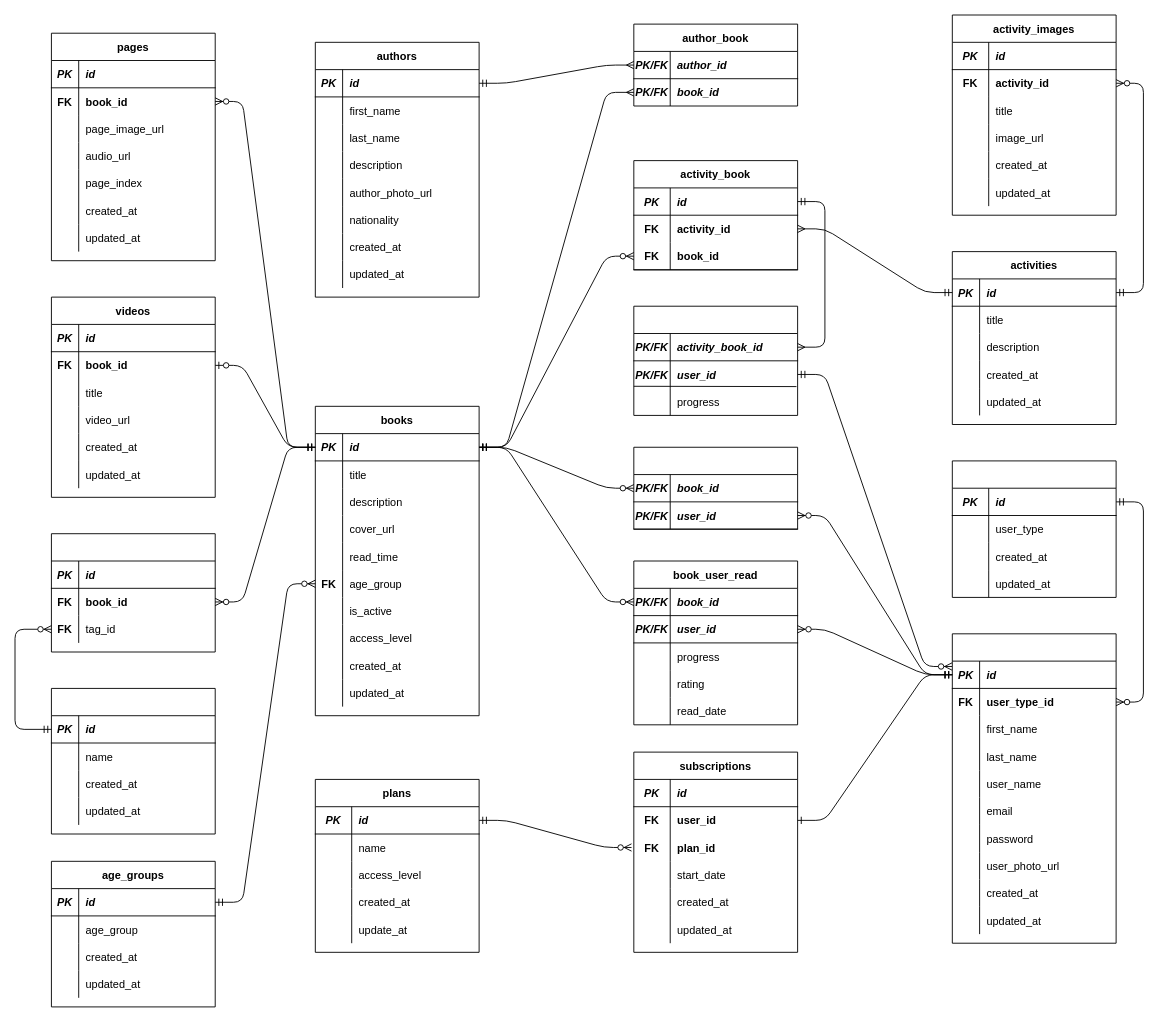
Some shapes in this 1158 by 1022 pixel diagram are drawn without their labels. Here are the shapes that lost their labels. From the top down, the box of each, then its label:
(633, 305, 798, 415): activity_book_user
(633, 446, 798, 529): book_user_favourite
(951, 460, 1116, 597): user_types
(51, 533, 215, 652): tagging_tagged
(51, 688, 215, 834): tag
(951, 633, 1116, 943): users
